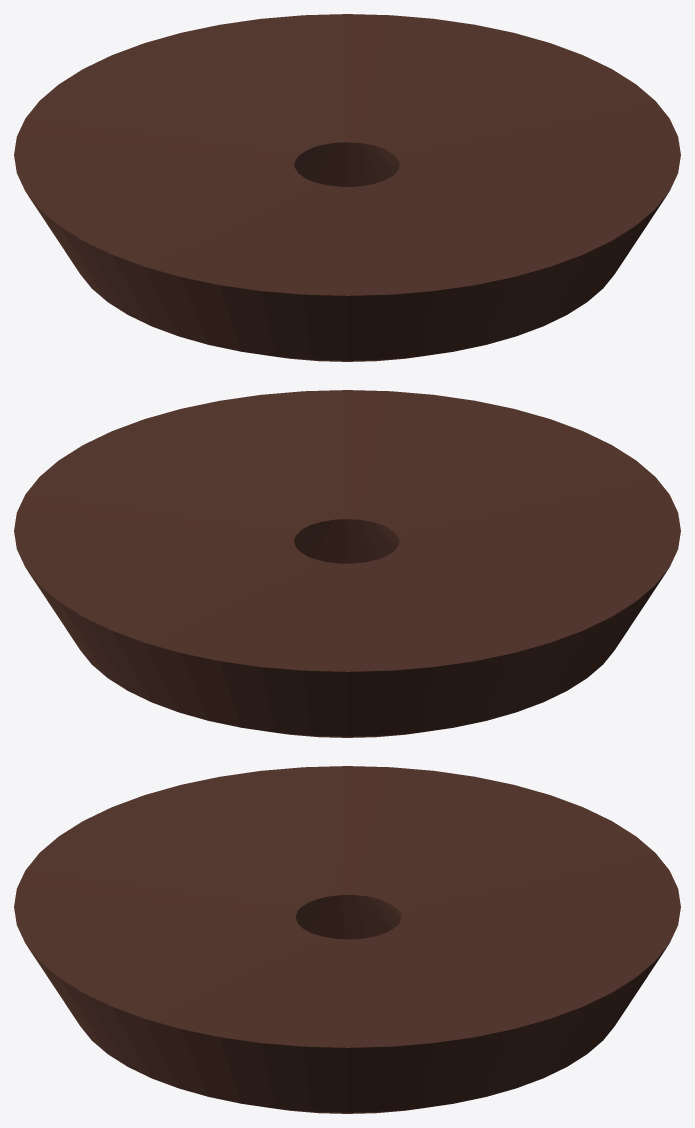
Rendered from bagel.obj.
3 views of the same model, one above another, from view 1: azimuth 30°, elevation 25°; view 2: azimuth 150°, elevation 25°; view 3: azimuth 270°, elevation 25° (orthographic).
Parts seen in each view (by area): view 1: Torus; view 2: Torus; view 3: Torus.
Boxes of the visible parts, x1=… form: Torus: x1=14, y1=14, x2=680, y2=361; Torus: x1=14, y1=390, x2=680, y2=737; Torus: x1=14, y1=766, x2=680, y2=1113.
Bounding box in the file's own units: 3.12 × 0.603 × 3.12.
